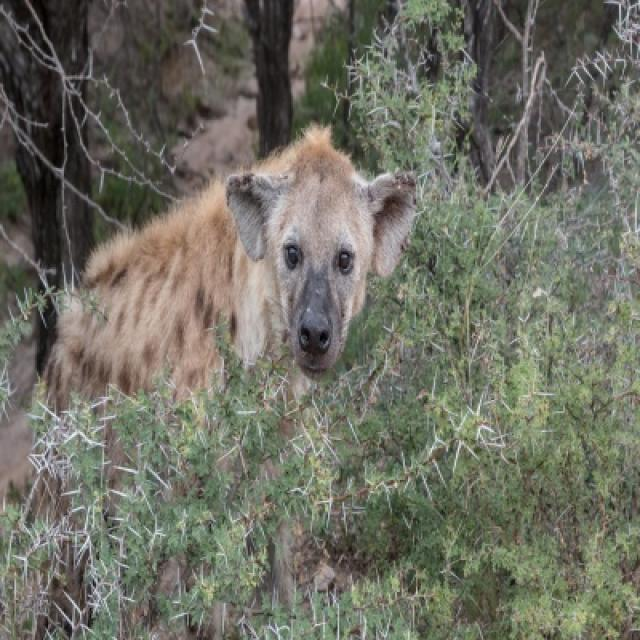hyena: (29, 128, 419, 413)
